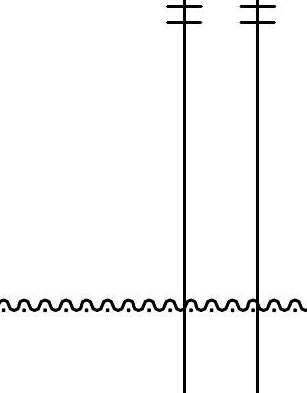115_buffer: (166, 5, 203, 24), (239, 5, 276, 24)
